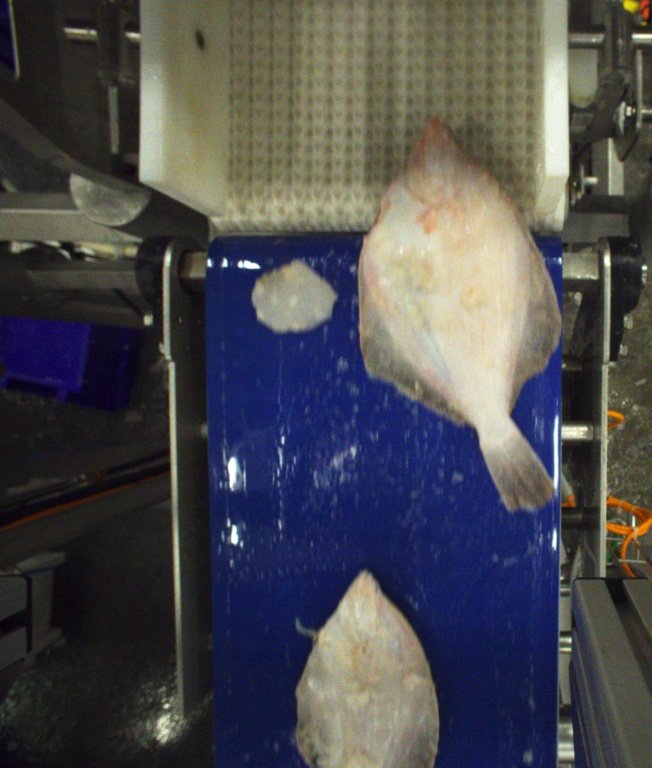PLE: (356, 118, 562, 509)
